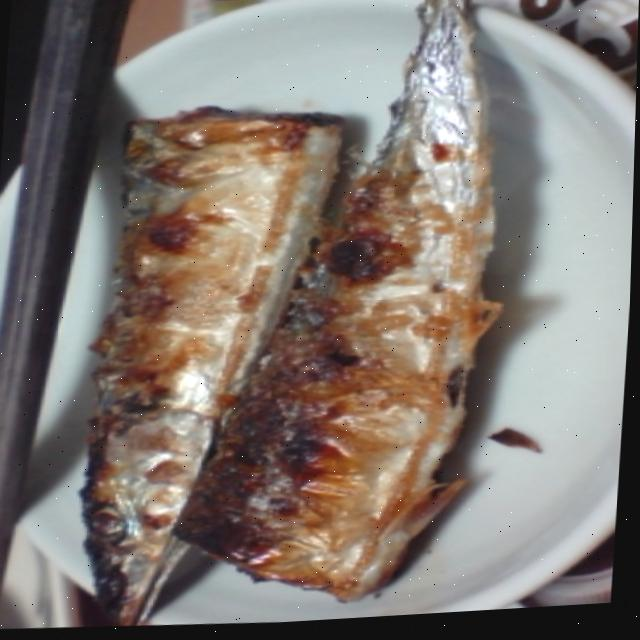熟制海鲜: (95, 0, 470, 635)
